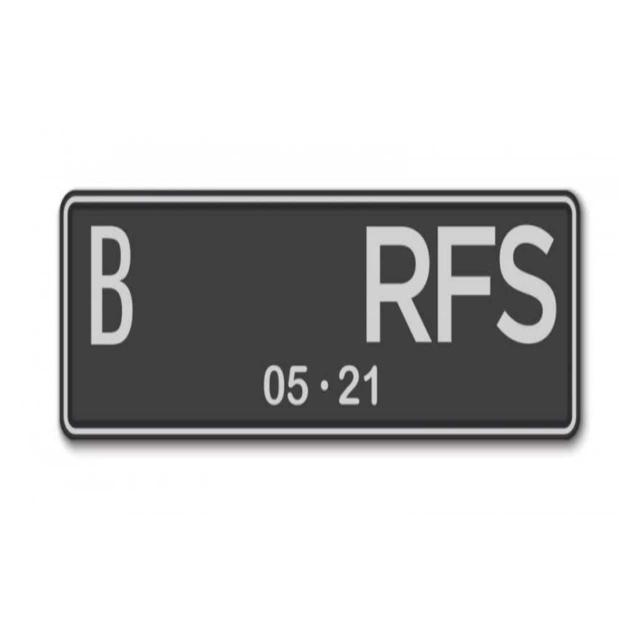lisence-plate: (48, 178, 589, 458)
